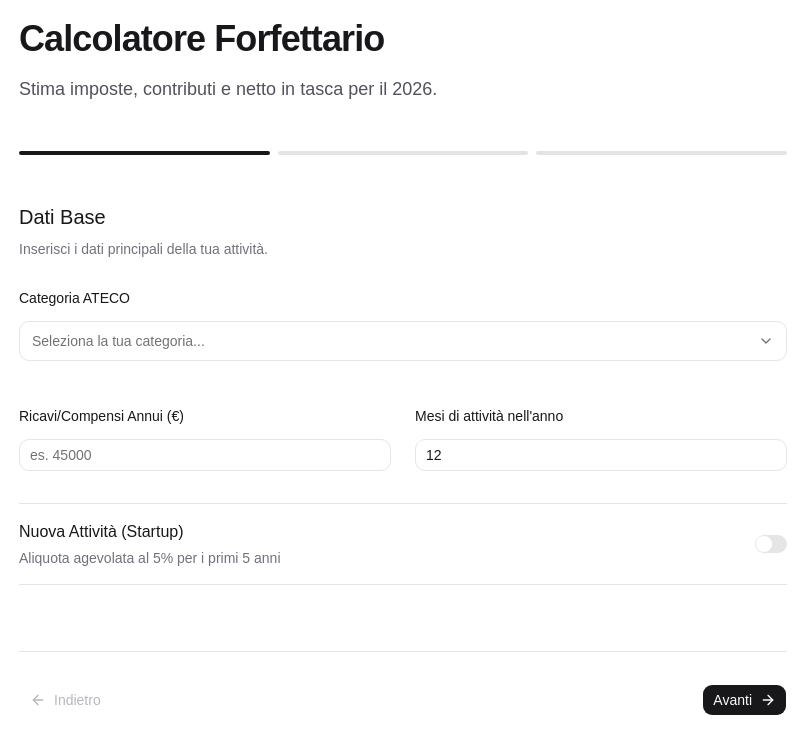
Test: Calculator page › blocks PDF export when the immediate exit threshold is exceeded
The image size is (807, 736).
Click the dropdown named "categoria ateco" at (118, 341), box x1=19 y1=321 x2=787 y2=361
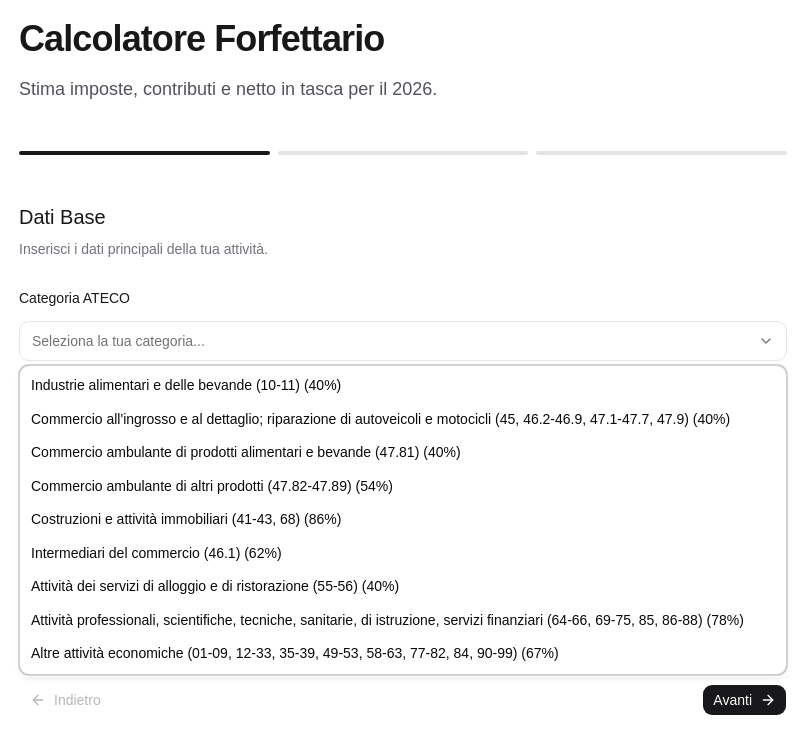
Click the option "Attività professionali" at (387, 620), box x1=31 y1=612 x2=744 y2=628
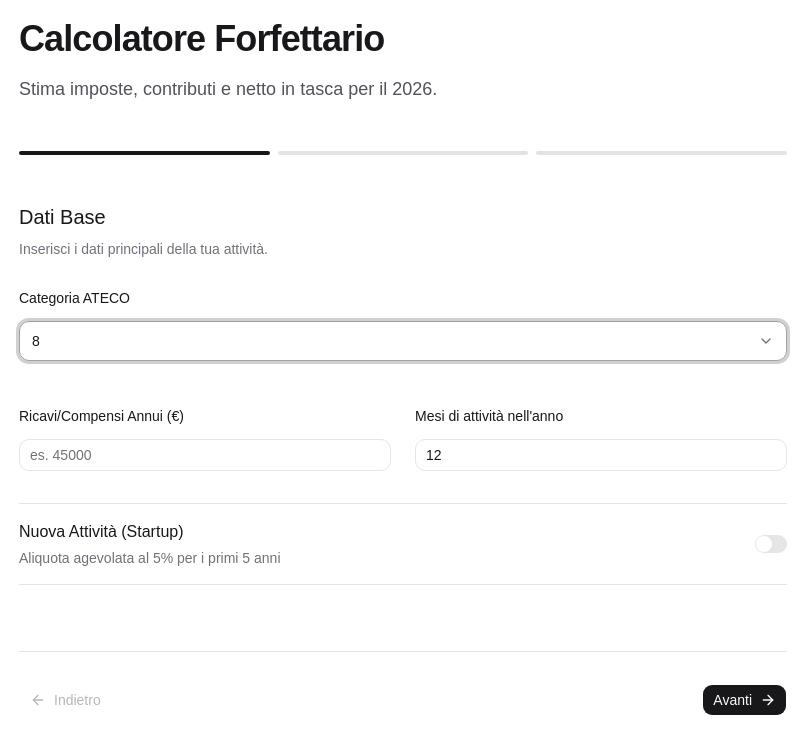
Type "100001" into the field labelled "Ricavi/Compensi Annui (€)" at (205, 455), box x1=19 y1=439 x2=391 y2=471
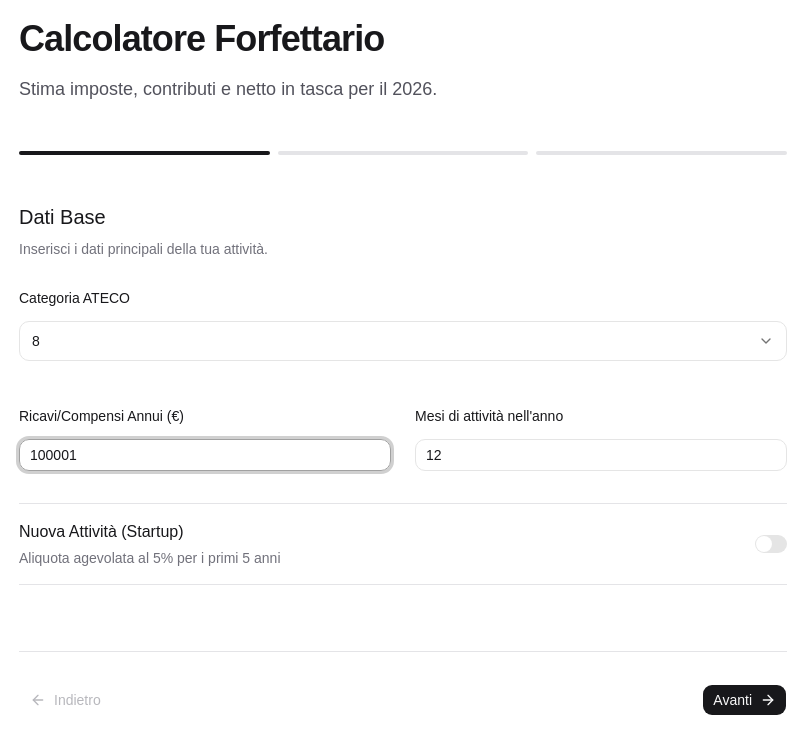
Click the button "Avanti" at (745, 700), box x1=702 y1=684 x2=787 y2=716
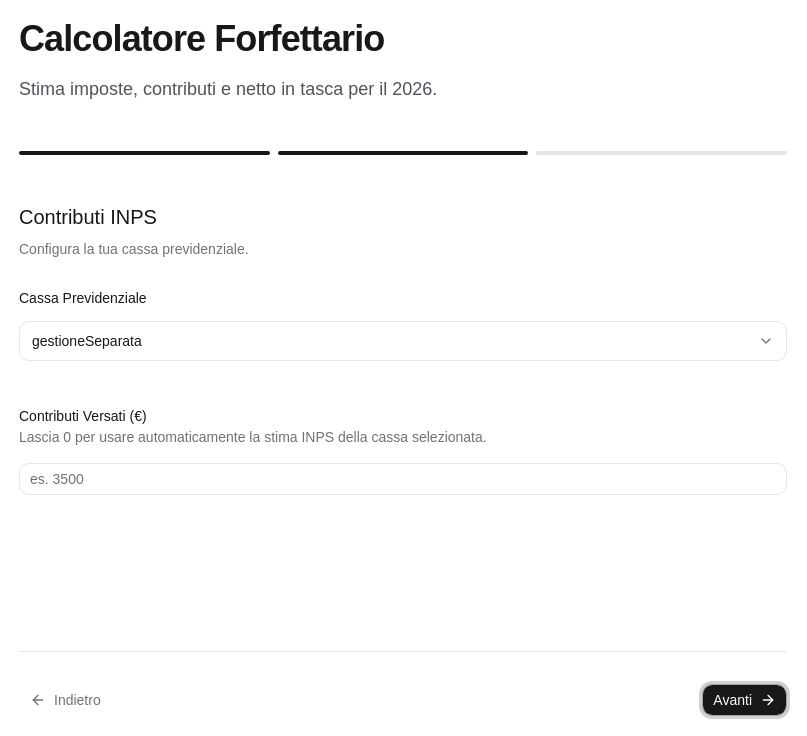
Click the button "Avanti" at (745, 700), box x1=702 y1=684 x2=787 y2=716
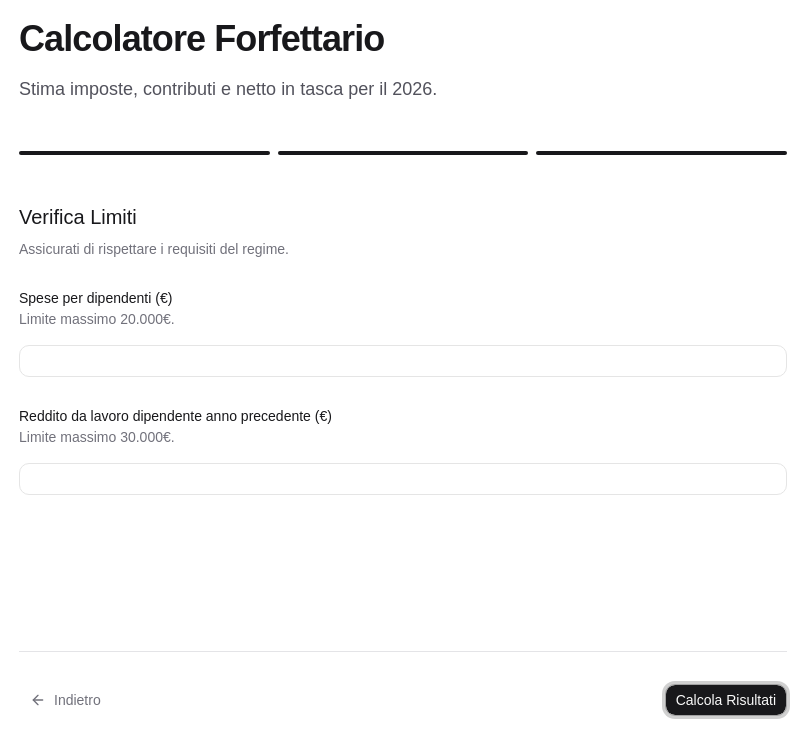
Click the button "Calcola Risultati" at (726, 700), box x1=665 y1=684 x2=787 y2=716
(page scrolled)
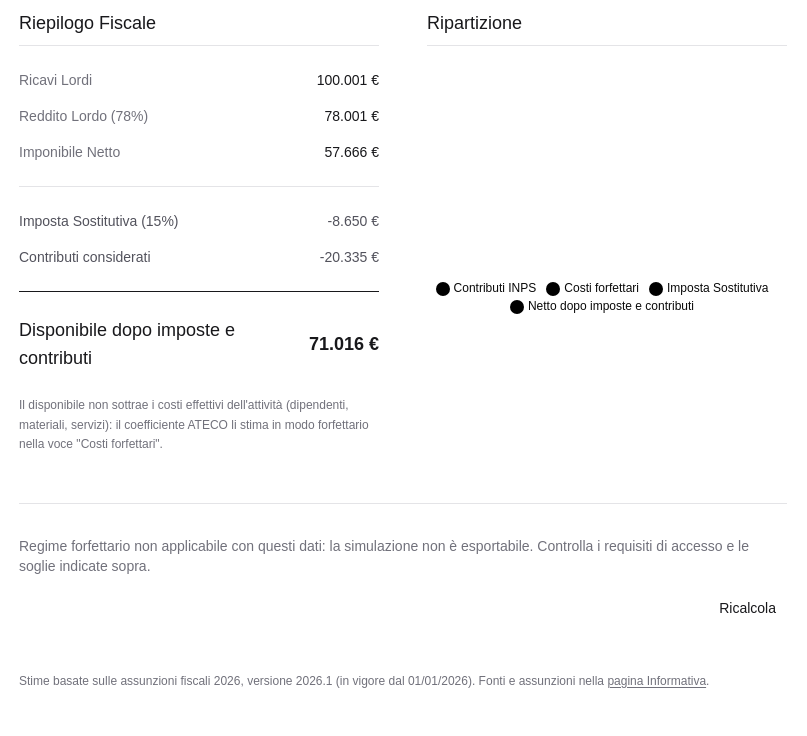
Expected: the text "Regime forfettario non applicabile" is shown, x1=19 y1=538 x2=749 y2=574
